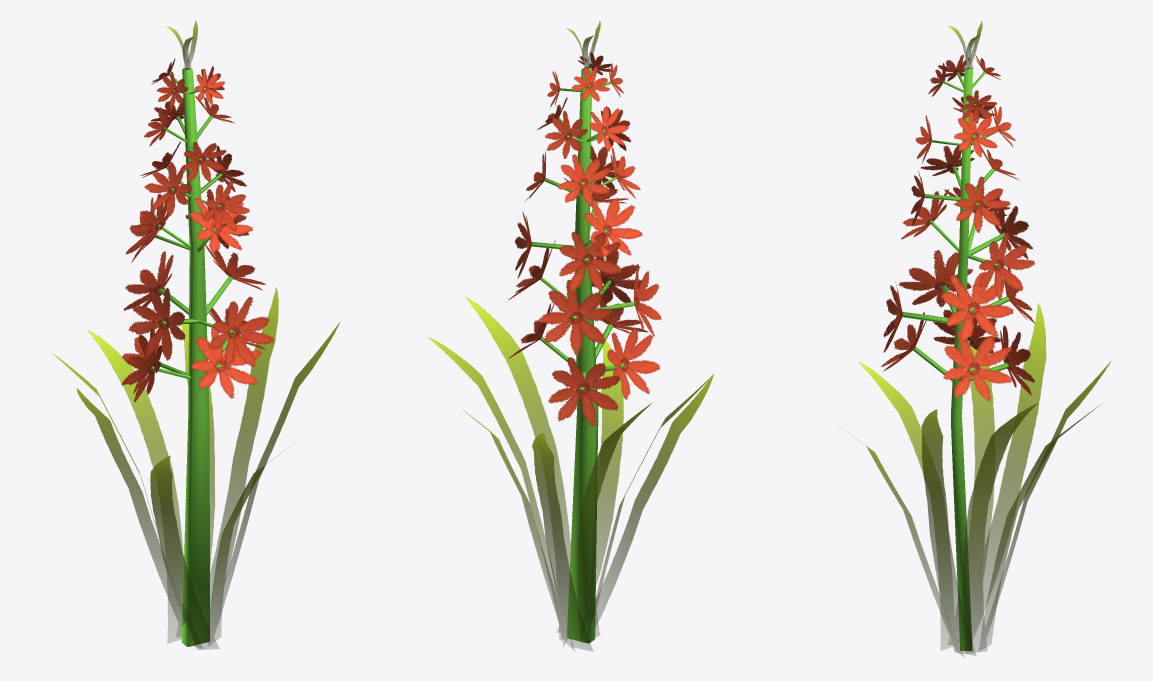
The model's file is Flower2.glb.
The picture shows the model from 3 angles, left to right: view 1: azimuth 30°, elevation 25°; view 2: azimuth 150°, elevation 25°; view 3: azimuth 270°, elevation 25°; orthographic projection.
Visible parts, largest first — view 1: Type_2_Flower_1_LOD0; view 2: Type_2_Flower_1_LOD0; view 3: Type_2_Flower_1_LOD0.
Part boxes in pixels (left/top/right/bottom): Type_2_Flower_1_LOD0: left=52, top=20, right=339, bottom=649; Type_2_Flower_1_LOD0: left=428, top=21, right=713, bottom=651; Type_2_Flower_1_LOD0: left=842, top=21, right=1110, bottom=656.
Size of the model in its own units: 0.6203 by 1.18 by 0.6012.
3 materials, 3 textured.
